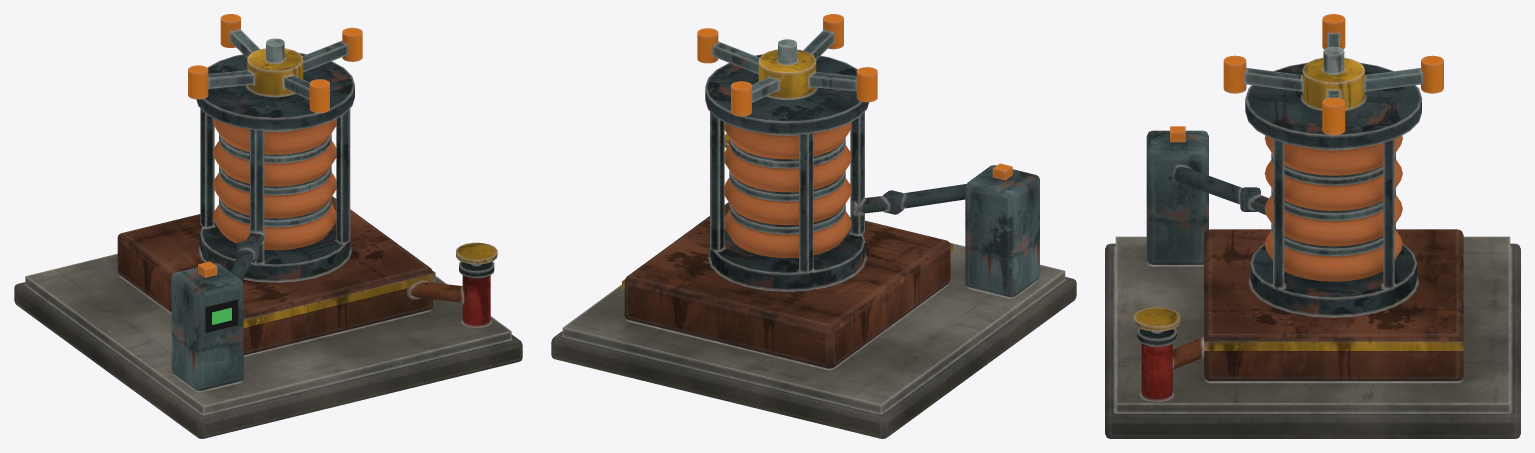
The model's file is mining_optimizer.glb.
3 views of the same model, side by side, from view 1: azimuth 30°, elevation 25°; view 2: azimuth 150°, elevation 25°; view 3: azimuth 270°, elevation 25° (orthographic). The views are drawn at different scales.
Parts seen in each view (by area): view 1: te_mining_optimizer, move_rotor; view 2: te_mining_optimizer, move_rotor; view 3: te_mining_optimizer, move_rotor.
Boxes of the visible parts, x1,y1,x2,y2 form: te_mining_optimizer: (14,53,522,438); move_rotor: (188,14,362,113); te_mining_optimizer: (551,54,1076,438); move_rotor: (697,14,877,116); te_mining_optimizer: (1105,62,1520,438); move_rotor: (1223,14,1443,135).
Size of the model in its own units: 0.8 by 0.66 by 0.8.
Materials: 1 (1 with a texture image).
